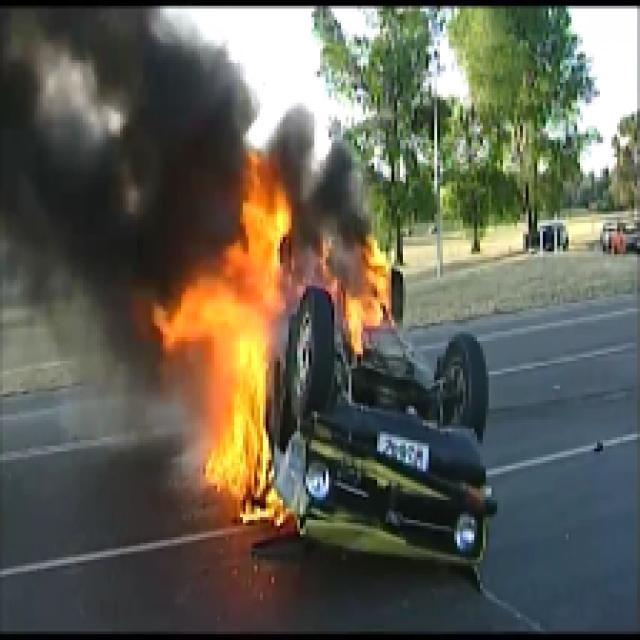Fire: (228, 189, 284, 493), (344, 261, 399, 331), (161, 281, 223, 337)
Smoke: (8, 10, 226, 273)
